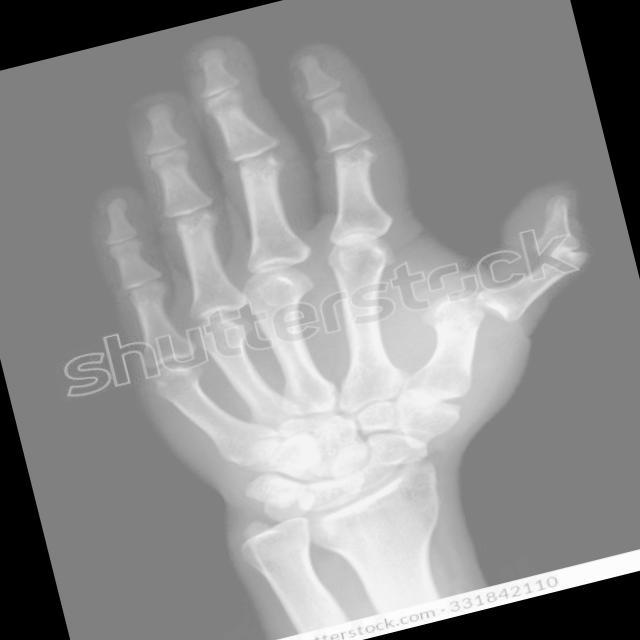Fracture Dislocation: (427, 259, 508, 343)
